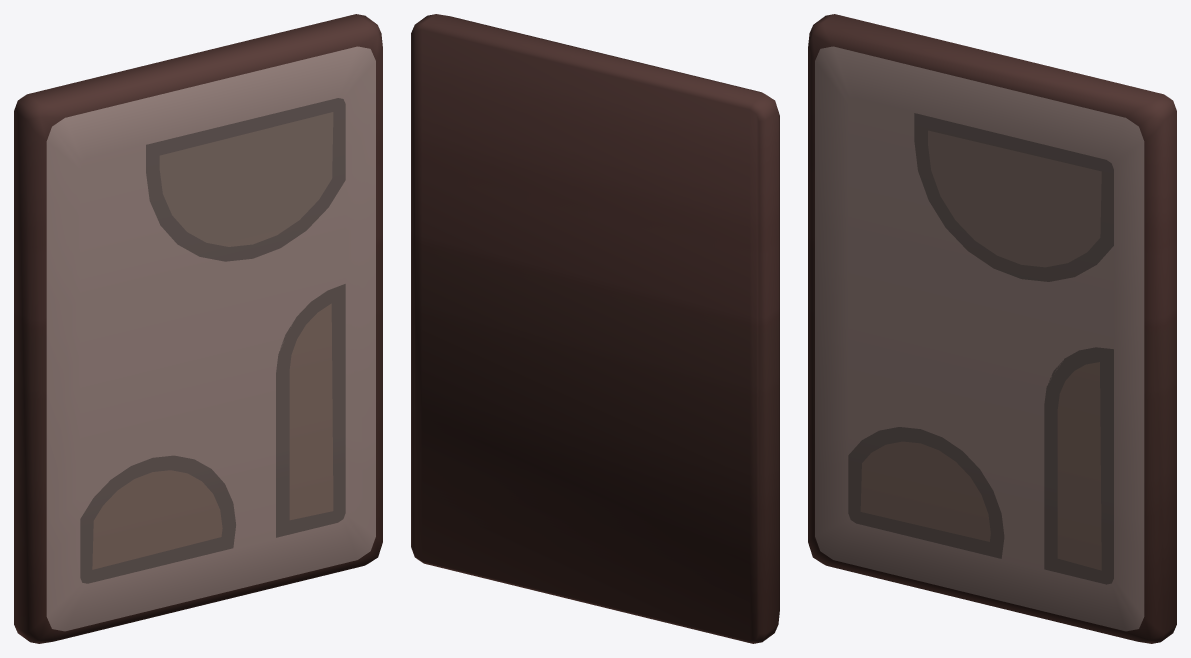
Rendered from Picture_01.glb.
The picture shows the model from 3 angles, left to right: view 1: azimuth 30°, elevation 25°; view 2: azimuth 150°, elevation 25°; view 3: azimuth 330°, elevation 25°; orthographic projection.
Visible parts, largest first — view 1: Picture_01; view 2: Picture_01; view 3: Picture_01.
Part boxes in pixels (x1,y1,x2,y2): Picture_01: [14, 14, 382, 643]; Picture_01: [411, 14, 779, 643]; Picture_01: [808, 14, 1176, 643].
Bounding box in the file's own units: 0.55 × 0.8 × 0.06.
Materials: 1 (1 with a texture image).
